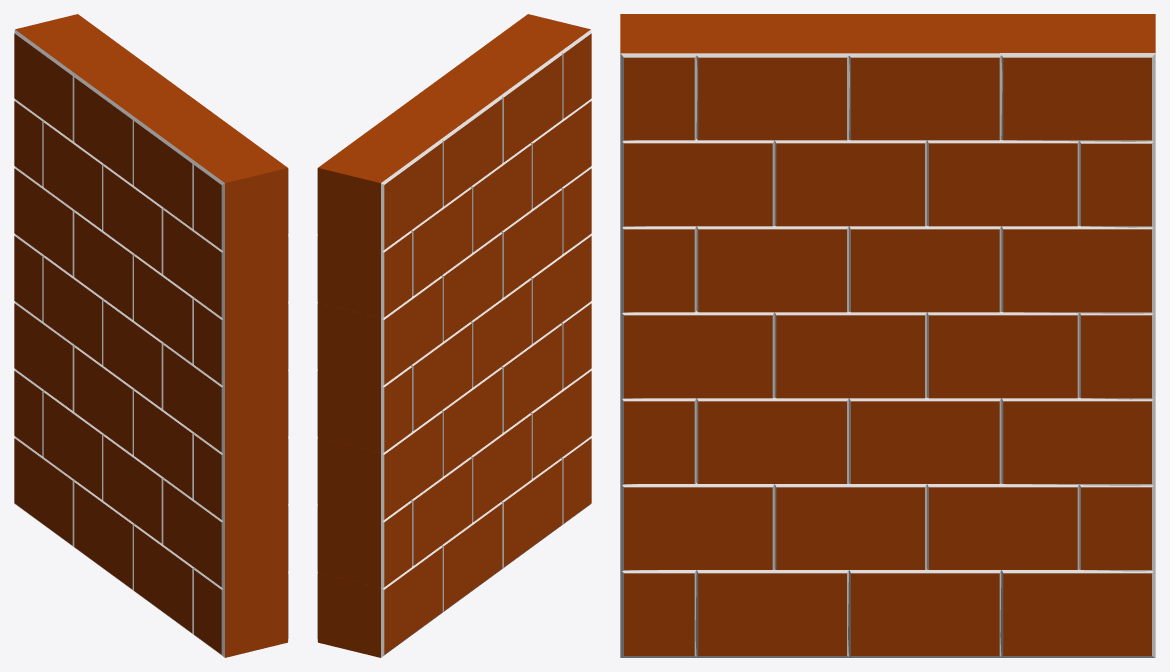
The model's file is tugla_duvar.fbx.
3 renders of one model, left to right at view 1: azimuth 30°, elevation 25°; view 2: azimuth 150°, elevation 25°; view 3: azimuth 270°, elevation 25°, orthographic. The views are drawn at different scales.
Parts seen in each view (by area): view 1: pCube166, pCube163, pCube98, pCube68, pCube79, pCube165, pCube164, pCube73, pCube167, pCube99, pCube69, pCube136 (+16 smaller); view 2: pCube79, pCube69, pCube136, pCube162, pCube165, pCube164, pCube63, pCube168, pCube115, pCube169, pCube72, pCube98 (+16 smaller); view 3: pCube79, pCube165, pCube164, pCube69, pCube162, pCube136, pCube72, pCube98, pCube163, pCube169, pCube68, pCube147 (+16 smaller).
Part boxes in pixels (left/top/right/bottom): pCube166: left=194, top=146, right=288, bottom=252; pCube163: left=163, top=343, right=288, bottom=453; pCube98: left=163, top=208, right=288, bottom=318; pCube68: left=163, top=478, right=288, bottom=588; pCube79: left=14, top=14, right=138, bottom=141; pCube165: left=134, top=101, right=258, bottom=228; pCube164: left=74, top=59, right=196, bottom=184; pCube73: left=194, top=568, right=288, bottom=657; pCube167: left=194, top=433, right=288, bottom=522; pCube99: left=194, top=298, right=288, bottom=387; pCube69: left=14, top=436, right=75, bottom=548; pCube136: left=14, top=301, right=75, bottom=411; pCube79: left=317, top=123, right=442, bottom=252; pCube69: left=317, top=546, right=442, bottom=657; pCube136: left=317, top=411, right=442, bottom=522; pCube162: left=317, top=276, right=442, bottom=387; pCube165: left=438, top=35, right=562, bottom=162; pCube164: left=379, top=80, right=502, bottom=206; pCube63: left=317, top=501, right=411, bottom=588; pCube168: left=317, top=366, right=411, bottom=453; pCube115: left=317, top=231, right=411, bottom=318; pCube169: left=441, top=502, right=502, bottom=612; pCube72: left=501, top=458, right=562, bottom=568; pCube98: left=530, top=99, right=591, bottom=208; pCube79: left=999, top=14, right=1155, bottom=141; pCube165: left=694, top=14, right=850, bottom=140; pCube164: left=847, top=14, right=1002, bottom=140; pCube69: left=1000, top=569, right=1155, bottom=657; pCube162: left=1001, top=225, right=1155, bottom=313; pCube136: left=1001, top=397, right=1155, bottom=485; pCube72: left=695, top=569, right=850, bottom=657; pCube98: left=620, top=139, right=774, bottom=227; pCube163: left=620, top=311, right=774, bottom=399; pCube169: left=848, top=569, right=1002, bottom=657; pCube68: left=620, top=483, right=774, bottom=570; pCube147: left=774, top=140, right=926, bottom=226.
Size of the model in its own units: 15.54 by 105 by 84.6.
